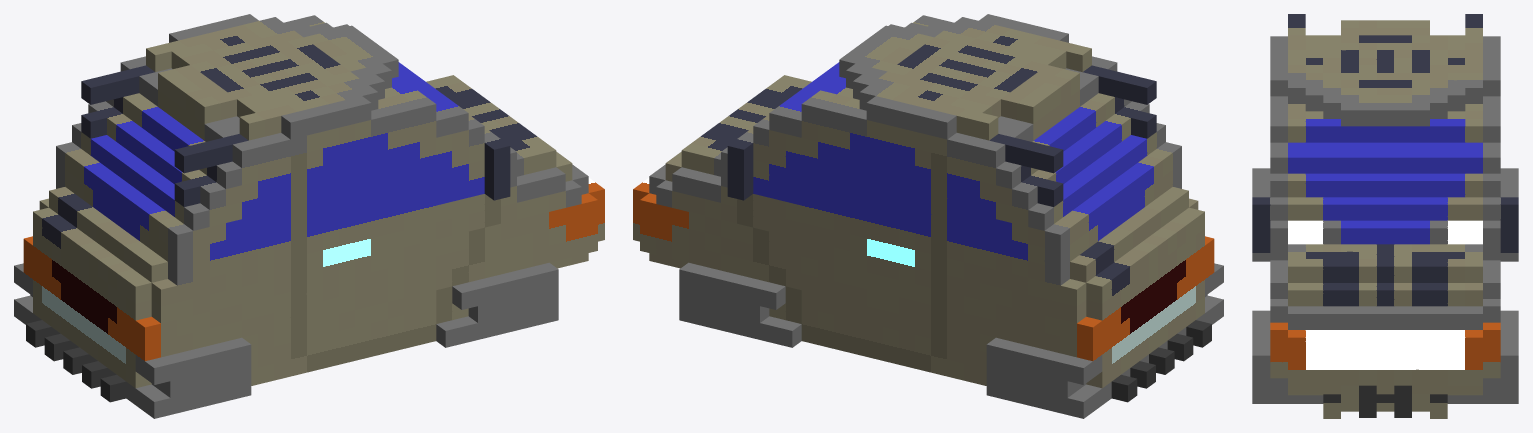
File: auto_05.dae
3 views of the same model, side by side, from view 1: azimuth 30°, elevation 25°; view 2: azimuth 150°, elevation 25°; view 3: azimuth 270°, elevation 25° (orthographic). The views are drawn at different scales.
Visible parts, largest first — view 1: Content; view 2: Content; view 3: Content.
Boxes of the visible parts, <box> form: Content: <box>14,14,604,418</box>; Content: <box>633,14,1223,418</box>; Content: <box>1252,14,1518,418</box>.
Size of the model in its own units: 30 by 15 by 15.
1 material, 1 textured.
